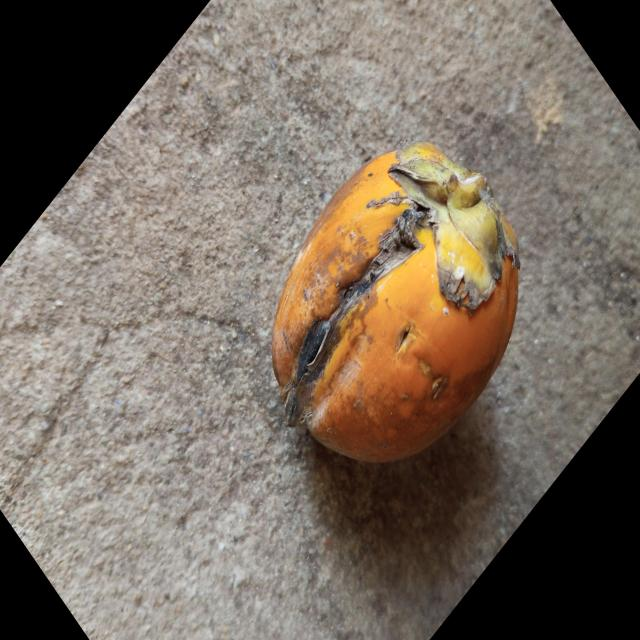damaged: (273, 142, 520, 462)
